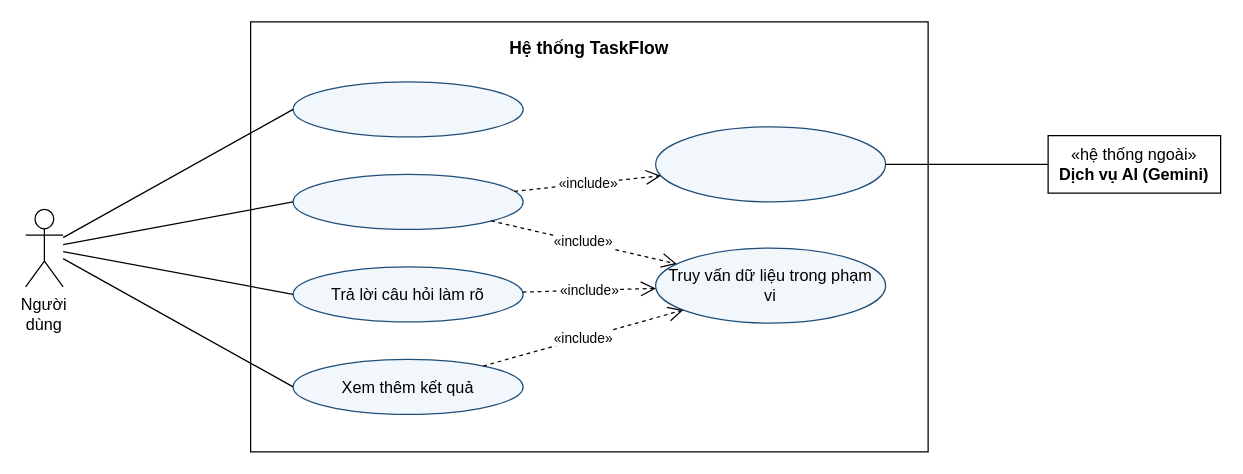
Some shapes in this 1243 by 474 pixel diagram are drawn without their labels. Here are the shapes that lost their labels. From the top down, the centre of each, then its label:
pixel 407 109: Xác định phạm vi hỏi đáp
pixel 770 164: Hiểu câu hỏi và lập kế hoạch truy vấn
pixel 407 201: Đặt câu hỏi về công việc
